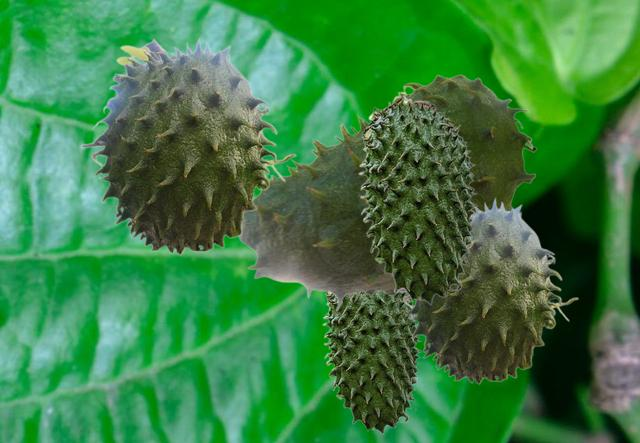guyabano: (237, 74, 536, 311), (80, 36, 296, 255), (393, 196, 578, 384), (358, 94, 477, 304), (322, 292, 421, 433)
